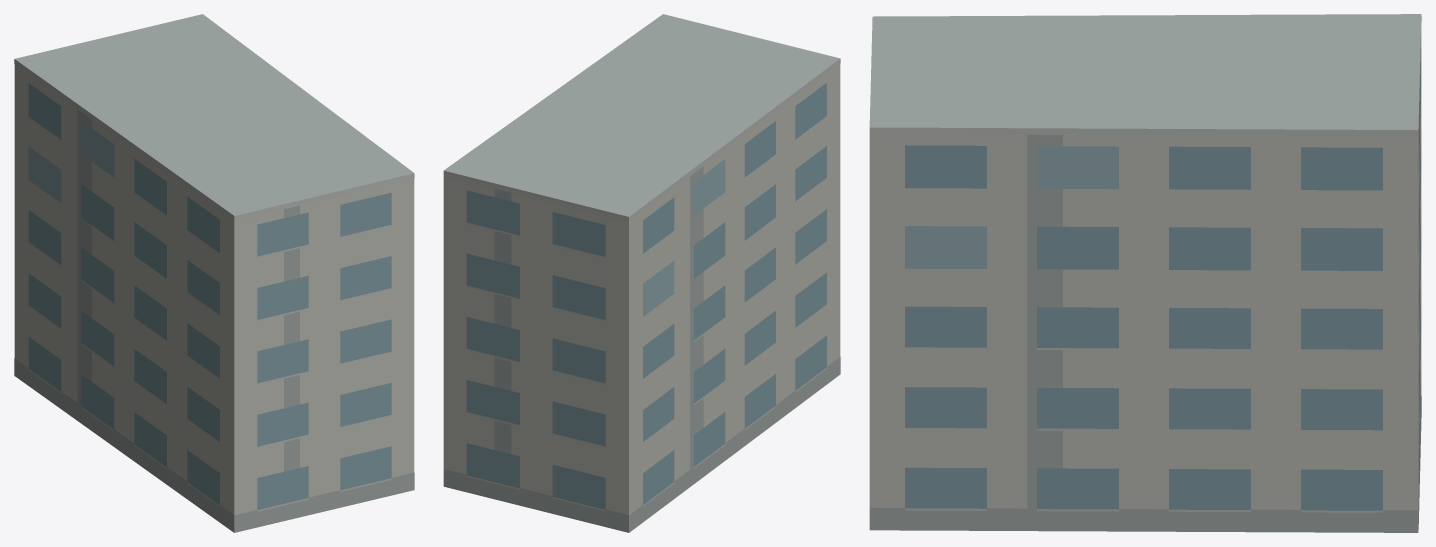
File: survey-upis-32919597.glb
3 renders of one model, left to right at view 1: azimuth 30°, elevation 25°; view 2: azimuth 150°, elevation 25°; view 3: azimuth 270°, elevation 25°, orthographic. The views are drawn at different scales.
Visible parts, largest first — view 1: survey-upis-32919597.tmp; view 2: survey-upis-32919597.tmp; view 3: survey-upis-32919597.tmp.
Boxes of the visible parts, x1,y1,x2,y2 form: survey-upis-32919597.tmp: [14, 14, 414, 532]; survey-upis-32919597.tmp: [443, 14, 840, 532]; survey-upis-32919597.tmp: [869, 14, 1421, 532].
Bounding box in the file's own units: 9.28 × 15 × 18.63.
